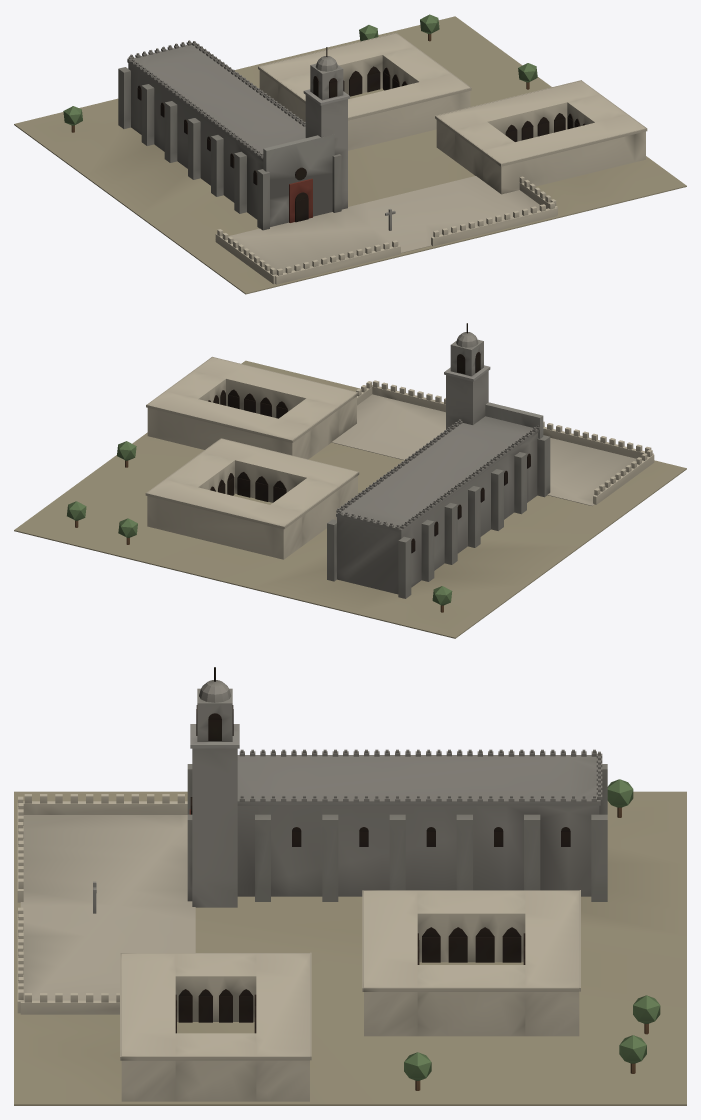
The model's file is santa-cruz-tlatelolco.glb.
3 views of the same model, one above another, from view 1: azimuth 30°, elevation 25°; view 2: azimuth 150°, elevation 25°; view 3: azimuth 270°, elevation 25° (orthographic). The views are drawn at different scales.
Parts seen in each view (by area): view 1: p2_colegio, p0_ground, p1_atrium; view 2: p2_colegio, p0_ground, p1_atrium; view 3: p2_colegio, p0_ground, p1_atrium.
Part boxes in pixels (x1=…): p2_colegio: x1=63, y1=14, x2=647, y2=230; p0_ground: x1=14, y1=16, x2=686, y2=294; p1_atrium: x1=215, y1=176, x2=557, y2=284; p2_colegio: x1=67, y1=323, x2=550, y2=612; p0_ground: x1=14, y1=360, x2=686, y2=638; p1_atrium: x1=356, y1=380, x2=654, y2=504; p2_colegio: x1=120, y1=667, x2=660, y2=1101; p0_ground: x1=14, y1=791, x2=686, y2=1105; p1_atrium: x1=17, y1=794, x2=187, y2=1014.
Bounding box in the file's own units: 110 × 38.13 × 100.
